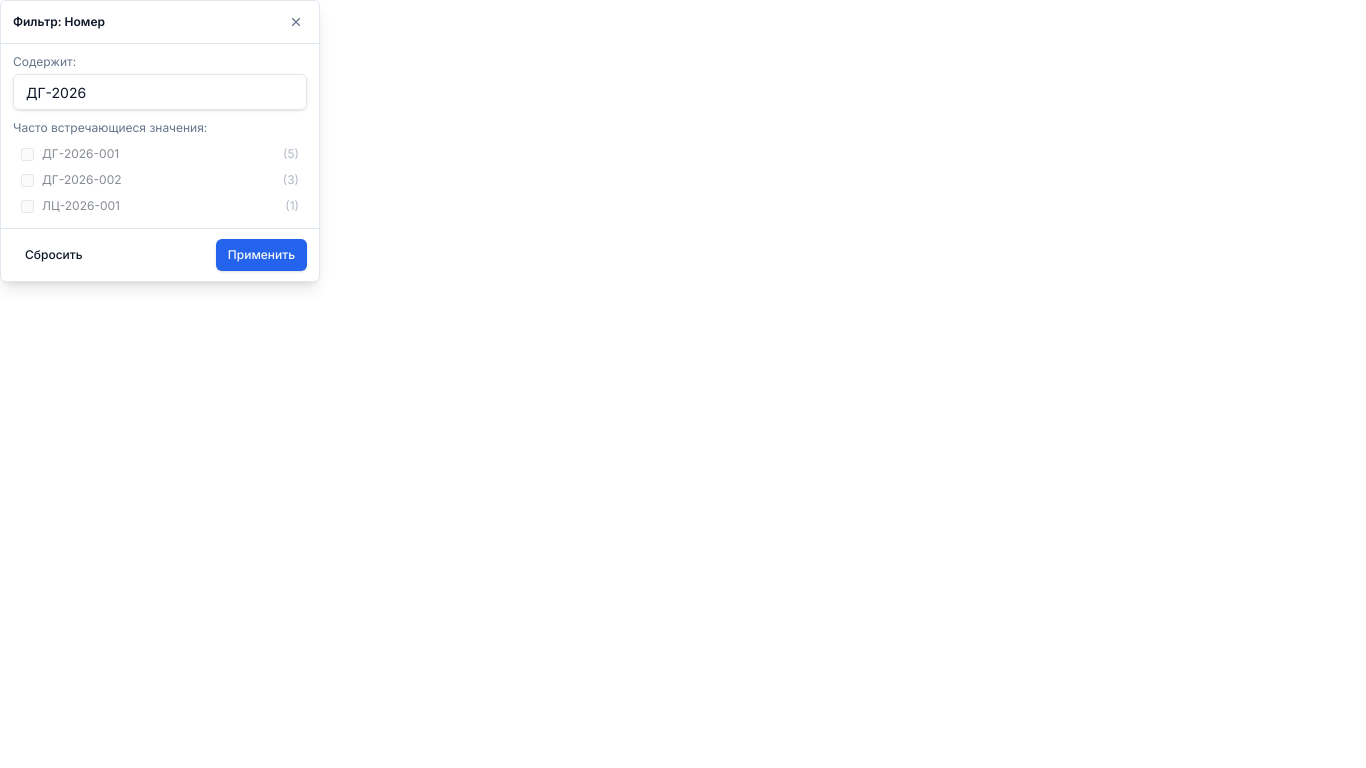
it: TextFilterPopover › resets draft when Сбросить is clicked
expect the field labelled "Содержит:" holds "ДГ-2026": met, box [13,74,307,110]
Click the button "Сбросить" at (54, 255), box [13,239,94,271]
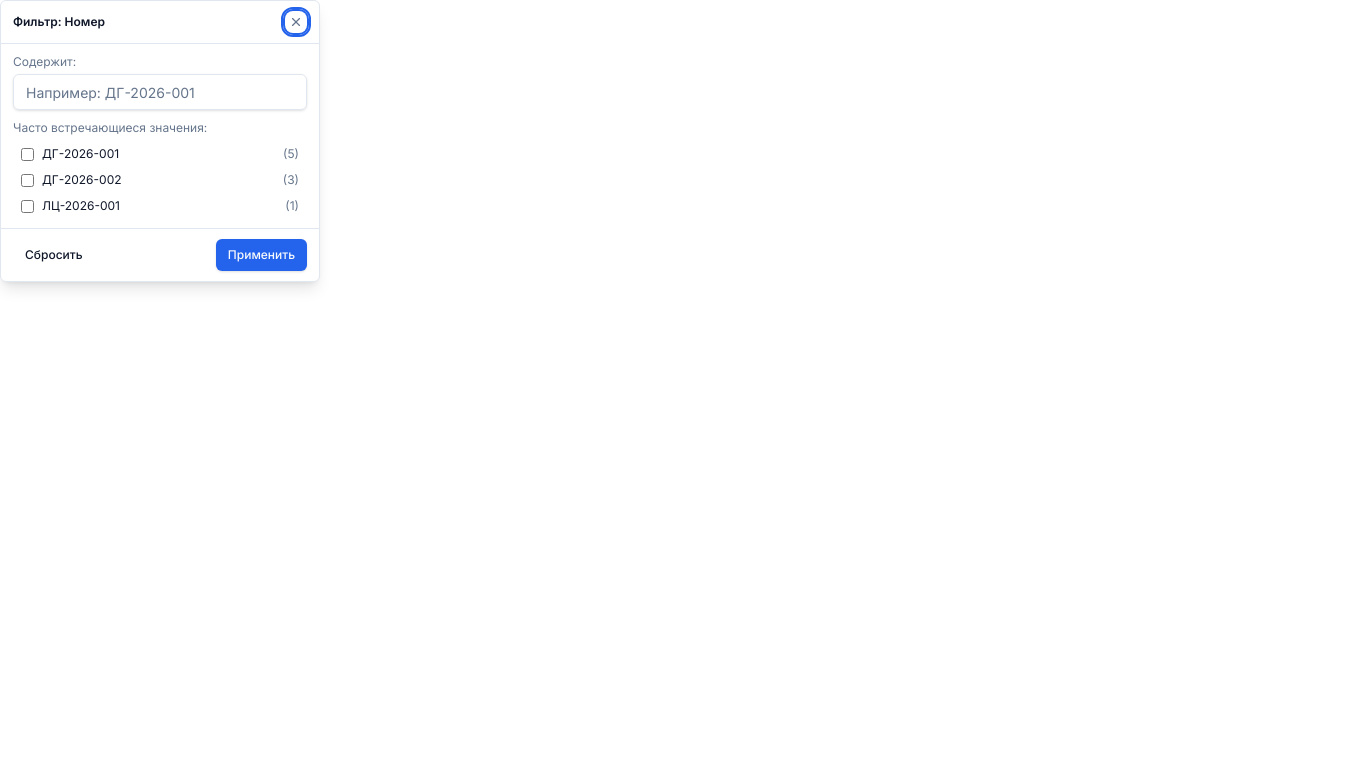
expect the field labelled "Содержит:" is empty: met, box [13,74,307,110]
